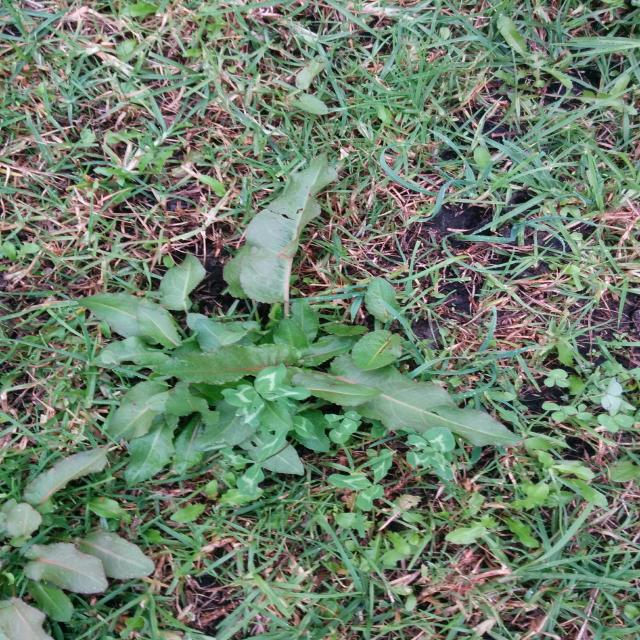Four Leaf Clover: (221, 363, 312, 429)
